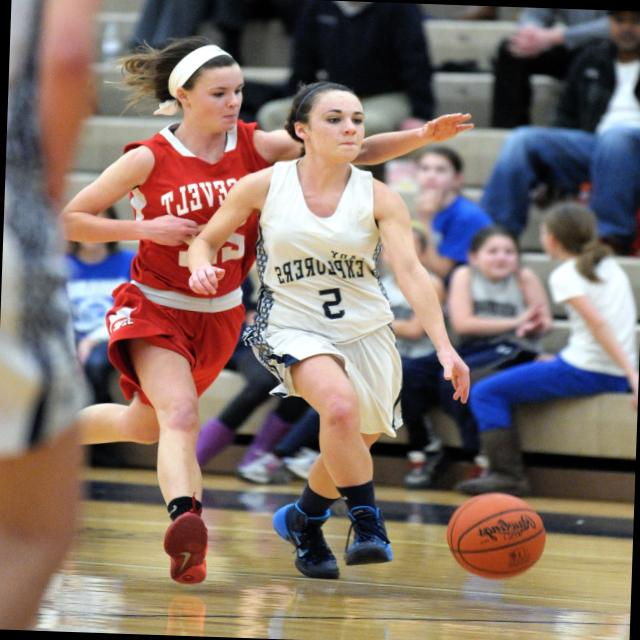Ball: (447, 491, 548, 578)
